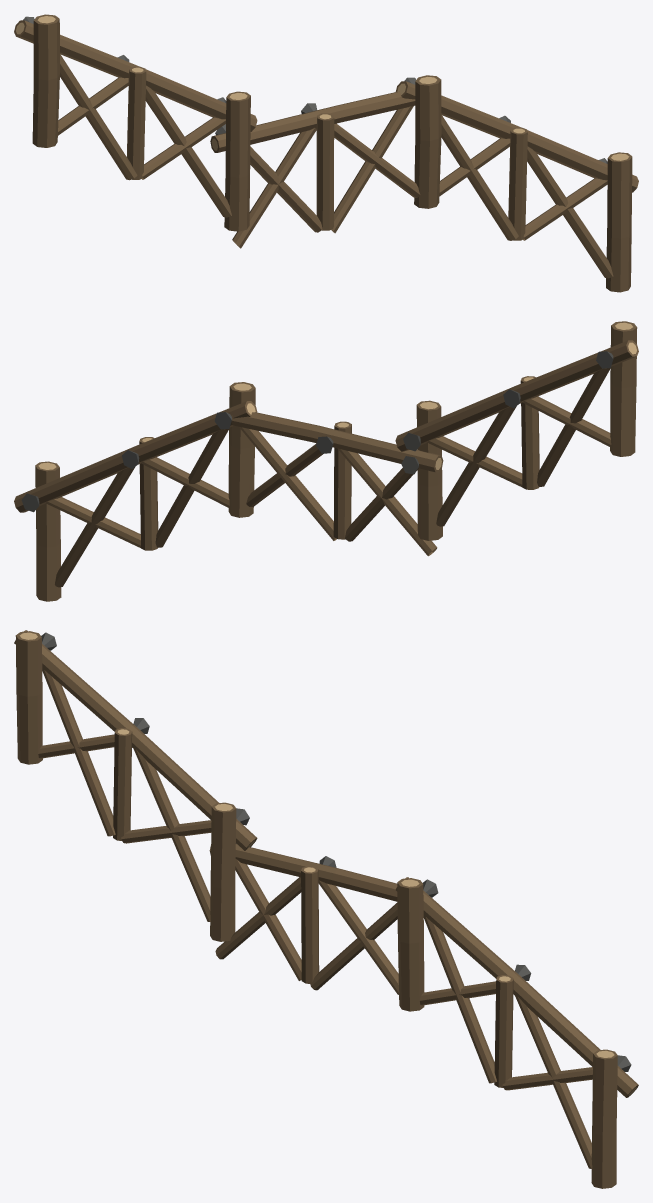
File: rpgpp_ag_wall_platform_stairs_02c_4m_handrail_01.fbx
The picture shows the model from 3 angles, top to bottom: view 1: azimuth 30°, elevation 25°; view 2: azimuth 150°, elevation 25°; view 3: azimuth 330°, elevation 25°; orthographic projection.
Parts seen in each view (by area): view 1: rpgpp_ag_wall_platform_stairs_02c_4m_handrail_01; view 2: rpgpp_ag_wall_platform_stairs_02c_4m_handrail_01; view 3: rpgpp_ag_wall_platform_stairs_02c_4m_handrail_01.
Part boxes in pixels (left/top/right/bottom): rpgpp_ag_wall_platform_stairs_02c_4m_handrail_01: left=14, top=14, right=638, bottom=292; rpgpp_ag_wall_platform_stairs_02c_4m_handrail_01: left=14, top=321, right=638, bottom=601; rpgpp_ag_wall_platform_stairs_02c_4m_handrail_01: left=14, top=630, right=638, bottom=1188.
Bounding box in the file's own units: 8.37 × 5.26 × 0.6083.
